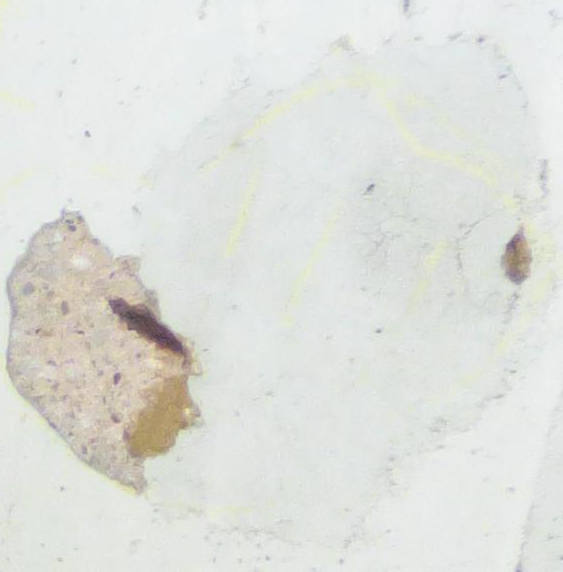Exposed reinforcement: (107, 296, 187, 357)
Spalling: (5, 208, 203, 496), (498, 223, 533, 286)
